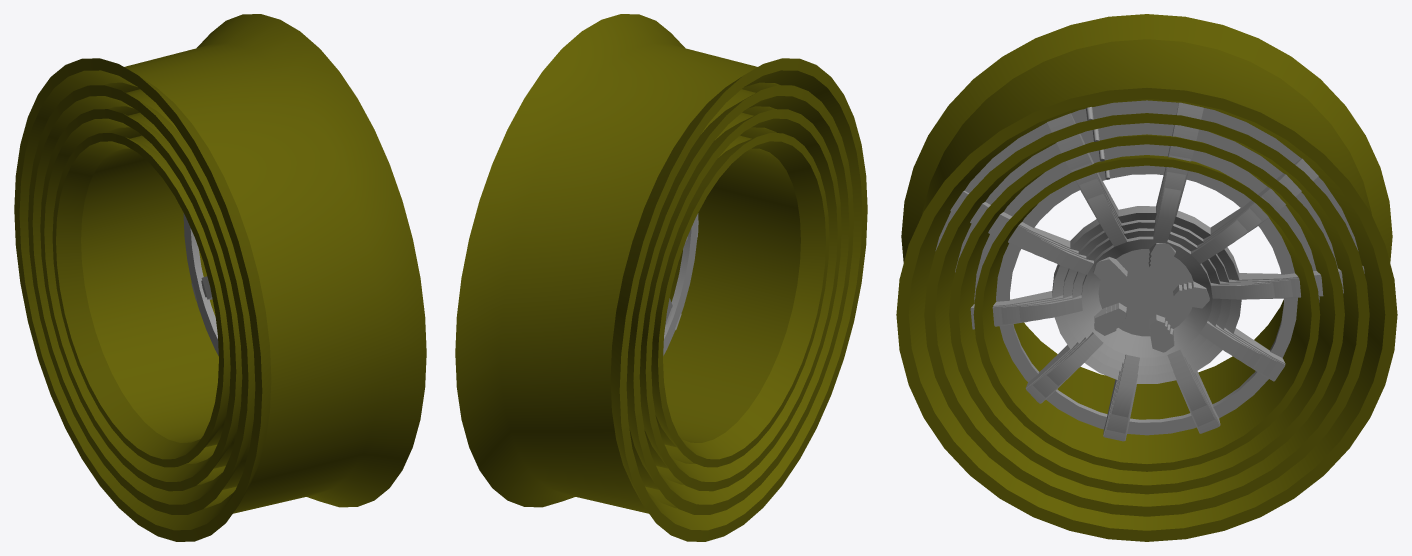
Rendered from Rim_13.FBX.
3 views of the same model, side by side, from view 1: azimuth 30°, elevation 25°; view 2: azimuth 150°, elevation 25°; view 3: azimuth 270°, elevation 25° (orthographic).
Visible parts, largest first — view 1: Rim_13_XL_InsideDetailed, Rim_13_S_Lod0, Rim_13_XL_Lod0, Rim_13_M_InsideDetailed, Rim_13_L_Lod0, Rim_13_L_InsideDetailed, Rim_13_S_InsideDetailed; view 2: Rim_13_XL_InsideDetailed, Rim_13_S_Lod0, Rim_13_XL_Lod0, Rim_13_M_InsideDetailed, Rim_13_L_Lod0, Rim_13_L_InsideDetailed, Rim_13_S_InsideDetailed; view 3: Rim_13_S_Lod0, Rim_13_XL_Lod0, Rim_13_L_Lod0, Rim_13_M_InsideDetailed, Rim_13_XL_InsideDetailed.
Boxes of the visible parts, bbox=[...] form: Rim_13_XL_InsideDetailed: bbox=[124, 14, 426, 513]; Rim_13_S_Lod0: bbox=[52, 133, 223, 467]; Rim_13_XL_Lod0: bbox=[14, 58, 262, 541]; Rim_13_M_InsideDetailed: bbox=[40, 109, 242, 491]; Rim_13_L_Lod0: bbox=[28, 85, 248, 514]; Rim_13_L_InsideDetailed: bbox=[126, 89, 255, 489]; Rim_13_S_InsideDetailed: bbox=[126, 135, 230, 452]; Rim_13_XL_InsideDetailed: bbox=[455, 14, 757, 513]; Rim_13_S_Lod0: bbox=[658, 133, 829, 467]; Rim_13_XL_Lod0: bbox=[619, 58, 867, 541]; Rim_13_M_InsideDetailed: bbox=[639, 109, 841, 491]; Rim_13_L_Lod0: bbox=[633, 85, 853, 514]; Rim_13_L_InsideDetailed: bbox=[626, 89, 755, 489]; Rim_13_S_InsideDetailed: bbox=[651, 135, 755, 452]; Rim_13_S_Lod0: bbox=[973, 158, 1320, 471]; Rim_13_XL_Lod0: bbox=[896, 88, 1397, 541]; Rim_13_L_Lod0: bbox=[924, 113, 1369, 516]; Rim_13_M_InsideDetailed: bbox=[949, 134, 1344, 494]; Rim_13_XL_InsideDetailed: bbox=[901, 14, 1392, 262].
Size of what is drawn, in the model's own units: 633 by 1704 by 1704.
